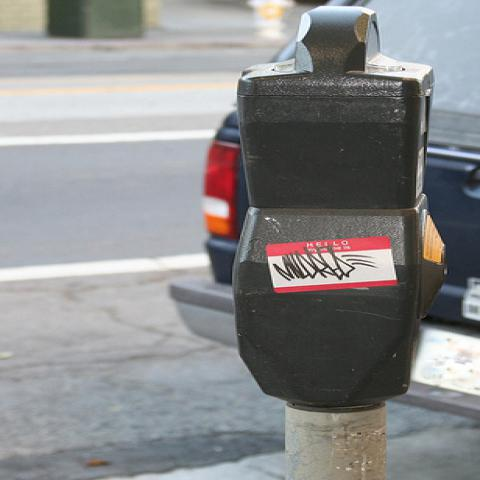car: (167, 0, 479, 421)
truck: (168, 1, 478, 422)
